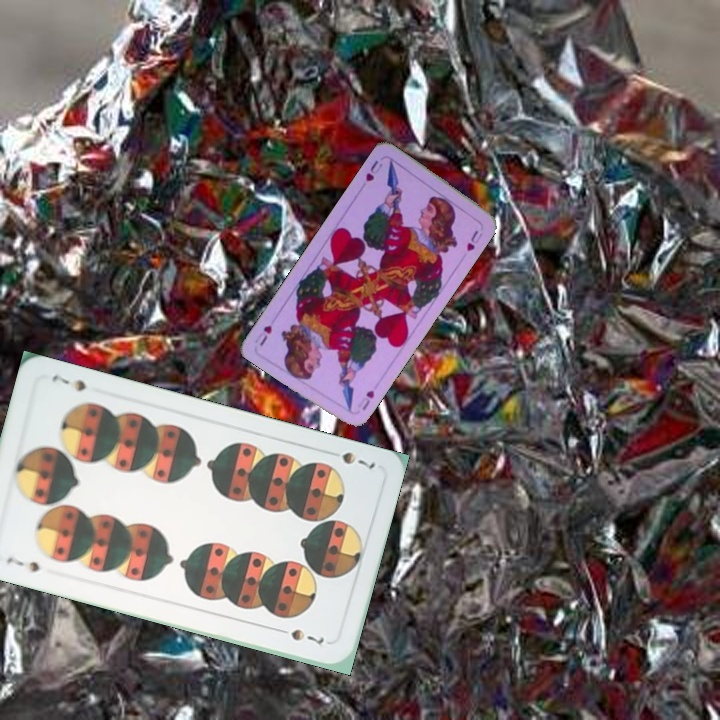HU: (361, 156, 385, 185), (354, 386, 377, 413)
S7: (322, 446, 378, 472), (2, 553, 43, 575)
